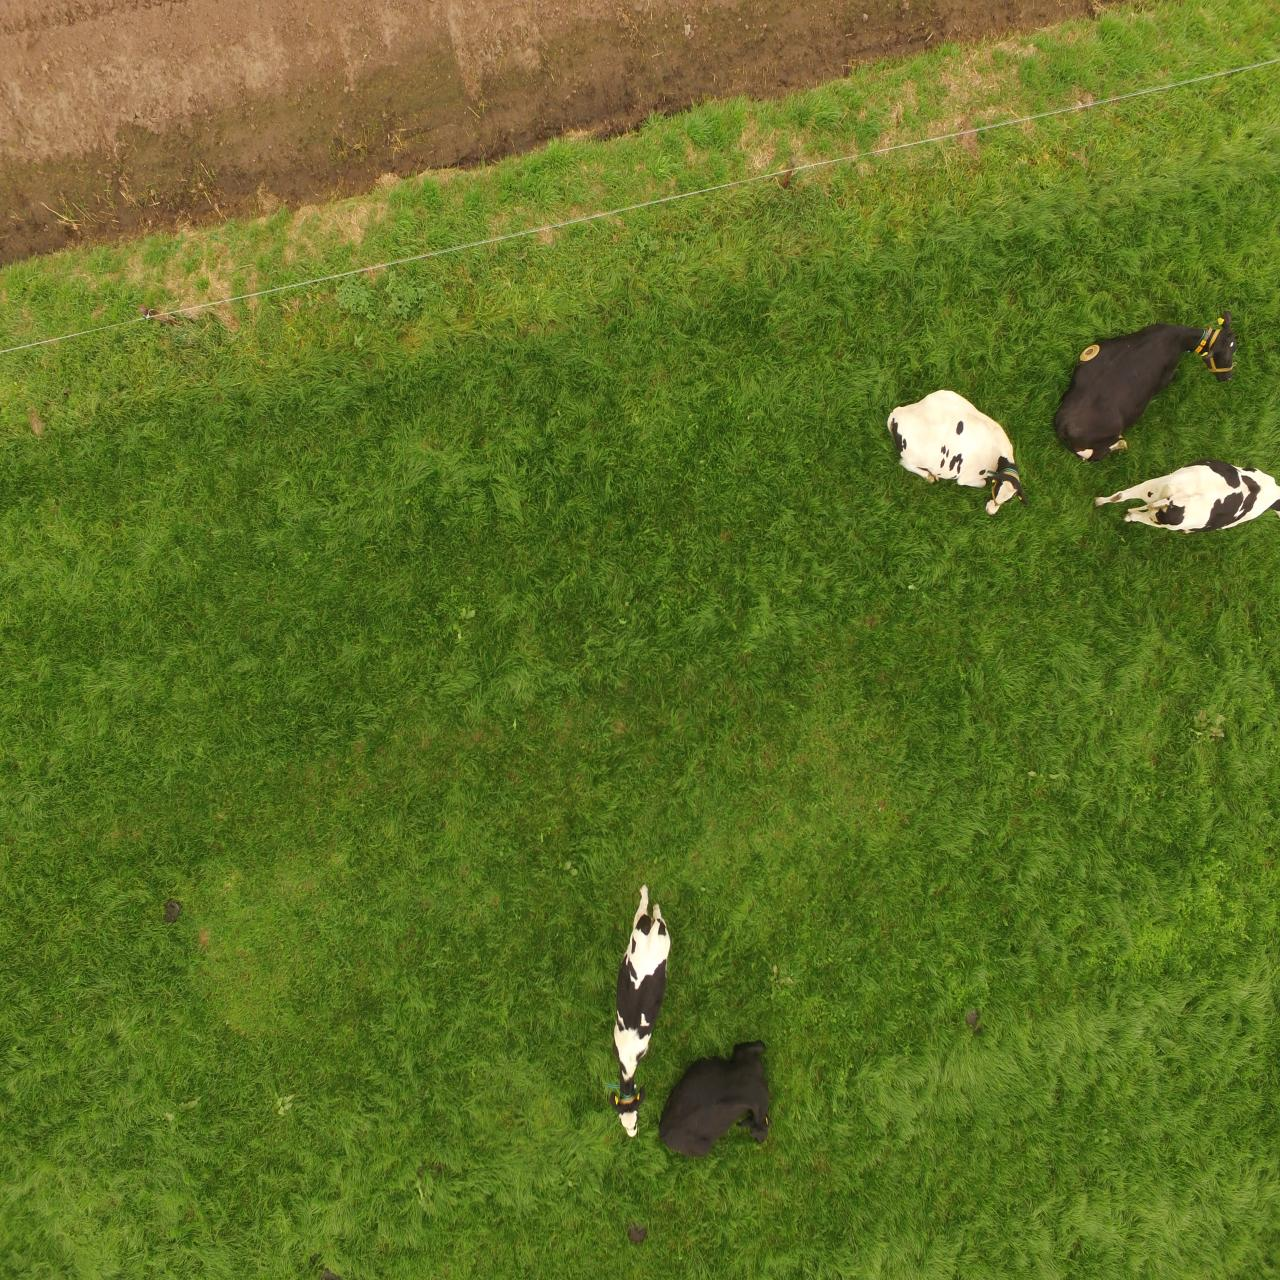cow: (1042, 308, 1241, 476), (598, 896, 687, 1149), (652, 1035, 785, 1193), (884, 383, 1024, 523)
